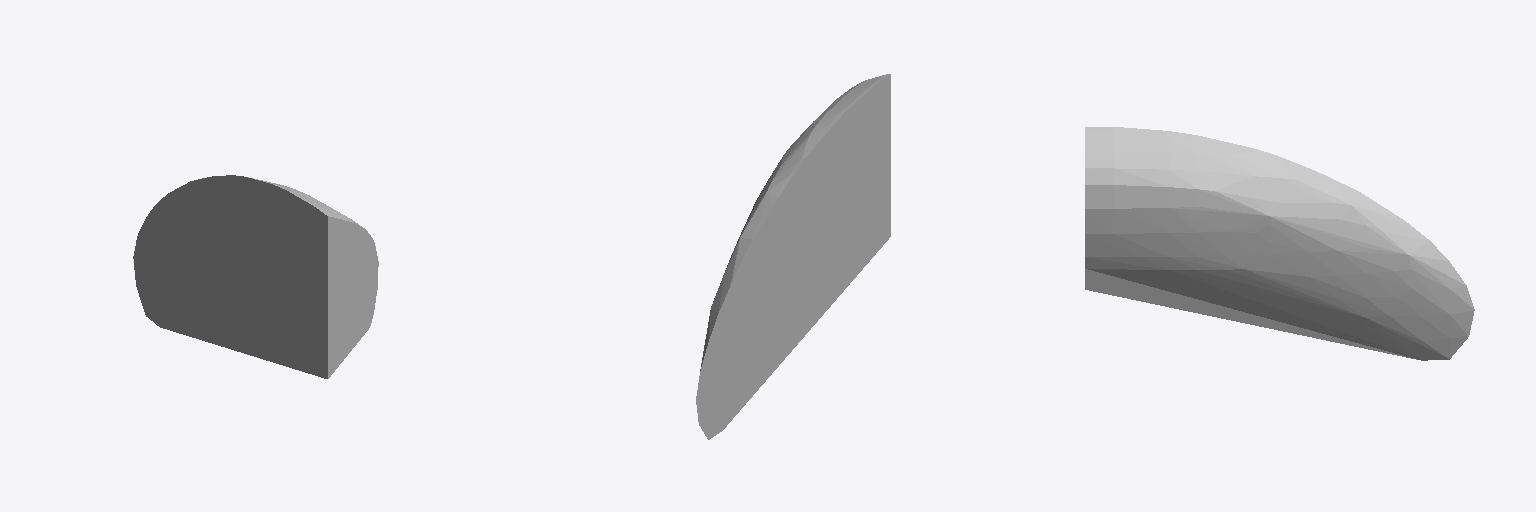
File: weight_4_collision_25.obj
The picture shows the model from 3 angles: view 1: azimuth 30°, elevation 25°; view 2: azimuth 150°, elevation 25°; view 3: azimuth 270°, elevation 25°; orthographic projection.
Bounding box in the file's own units: 0.0275 × 0.1215 × 0.1831.